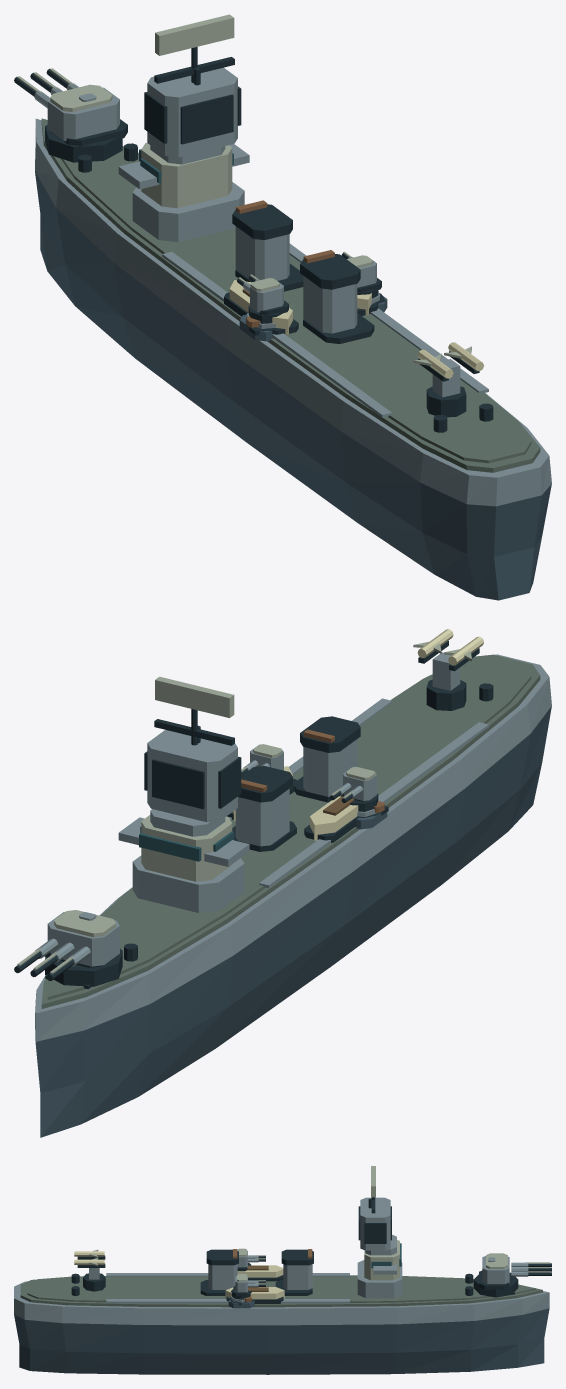
Rendered from historic-providence.glb.
3 views of the same model, one above another, from view 1: azimuth 30°, elevation 25°; view 2: azimuth 150°, elevation 25°; view 3: azimuth 270°, elevation 25° (orthographic). The views are drawn at different scales.
Visible parts, largest first — view 1: historic-providence-historic-providence-geometry, historic-providence-part_bridge.108-geometry, historic-providence-turret_main_0.079-geometry, historic-providence-historic_funnel_1.056-geometry, historic-providence-historic_funnel_0.106-geometry, historic-providence-naval_launcher_0.002-geometry, historic-providence-turret_aa_aa-port.110-geometry, historic-providence-turret_aa_aa-starboard.106-geometry; view 2: historic-providence-historic-providence-geometry, historic-providence-part_bridge.108-geometry, historic-providence-turret_main_0.079-geometry, historic-providence-historic_funnel_0.106-geometry, historic-providence-historic_funnel_1.056-geometry, historic-providence-naval_launcher_0.002-geometry, historic-providence-turret_aa_aa-port.110-geometry, historic-providence-turret_aa_aa-starboard.106-geometry; view 3: historic-providence-historic-providence-geometry, historic-providence-part_bridge.108-geometry, historic-providence-turret_main_0.079-geometry, historic-providence-historic_funnel_0.106-geometry, historic-providence-historic_funnel_1.056-geometry, historic-providence-naval_launcher_0.002-geometry, historic-providence-turret_aa_aa-starboard.106-geometry, historic-providence-turret_aa_aa-port.110-geometry.
Part boxes in pixels (x1,y1,x2,y2): historic-providence-historic-providence-geometry: [35, 118, 551, 600]; historic-providence-part_bridge.108-geometry: [118, 14, 249, 242]; historic-providence-turret_main_0.079-geometry: [14, 68, 127, 162]; historic-providence-historic_funnel_1.056-geometry: [300, 250, 374, 343]; historic-providence-historic_funnel_0.106-geometry: [232, 200, 303, 291]; historic-providence-naval_launcher_0.002-geometry: [413, 342, 483, 417]; historic-providence-turret_aa_aa-port.110-geometry: [237, 274, 288, 323]; historic-providence-turret_aa_aa-starboard.106-geometry: [341, 251, 381, 298]; historic-providence-historic-providence-geometry: [35, 654, 551, 1137]; historic-providence-part_bridge.108-geometry: [118, 676, 249, 912]; historic-providence-turret_main_0.079-geometry: [14, 910, 122, 986]; historic-providence-historic_funnel_0.106-geometry: [232, 766, 296, 851]; historic-providence-historic_funnel_1.056-geometry: [293, 716, 360, 802]; historic-providence-naval_launcher_0.002-geometry: [413, 629, 483, 710]; historic-providence-turret_aa_aa-port.110-geometry: [330, 766, 378, 811]; historic-providence-turret_aa_aa-starboard.106-geometry: [241, 744, 283, 775]; historic-providence-historic-providence-geometry: [14, 1265, 549, 1374]; historic-providence-part_bridge.108-geometry: [357, 1166, 402, 1298]; historic-providence-turret_main_0.079-geometry: [473, 1253, 551, 1297]; historic-providence-historic_funnel_0.106-geometry: [275, 1249, 313, 1295]; historic-providence-historic_funnel_1.056-geometry: [200, 1249, 238, 1295]; historic-providence-naval_launcher_0.002-geometry: [74, 1249, 105, 1291]; historic-providence-turret_aa_aa-starboard.106-geometry: [231, 1274, 265, 1299]; historic-providence-turret_aa_aa-port.110-geometry: [237, 1248, 265, 1271].
Size of the model in its own units: 0.6941 by 1.66 by 4.34.
